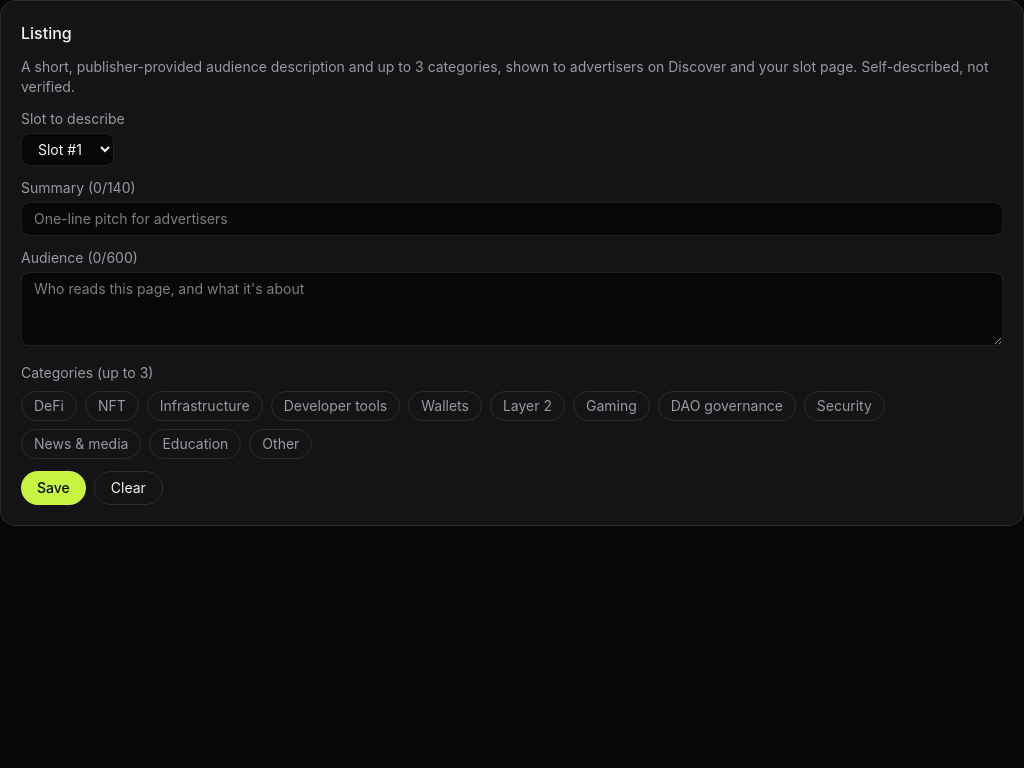
Test: ListingEditor › shows the ApiError message and does not leave a stale "Listing saved" when save is rejected (L2)
This screenshot has width=1024, height=768.
Click the button "Save" at (53, 488), box [21,471,86,505]
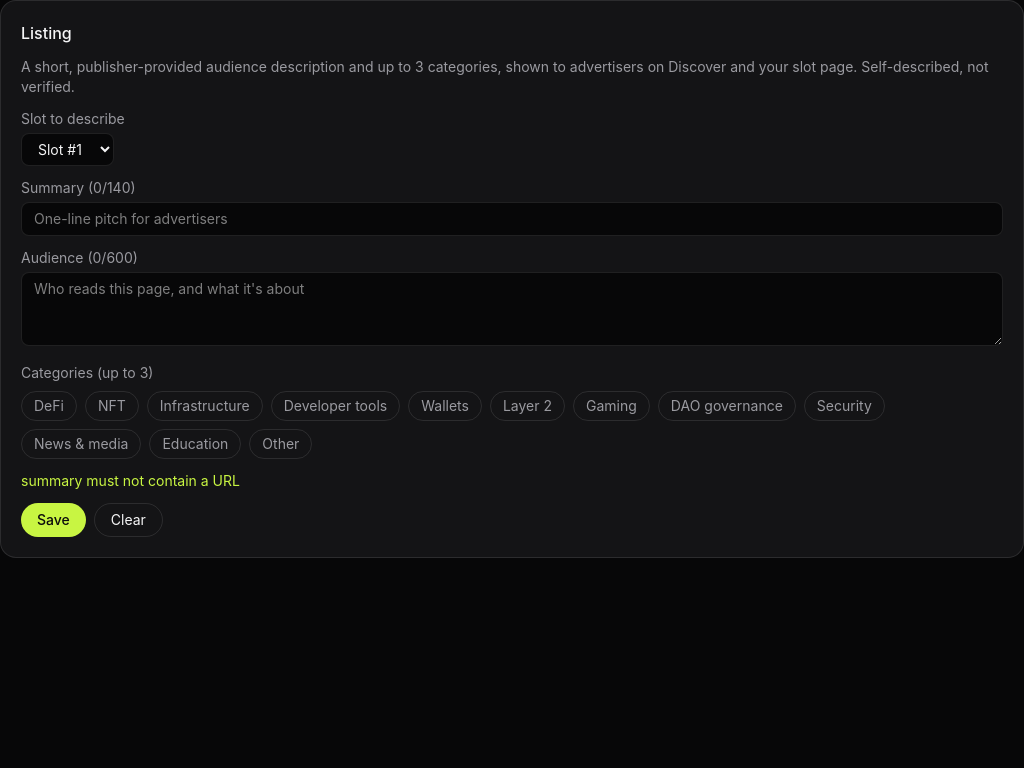
Check: the text "summary must not contain a URL" is shown, box [21,472,240,489]
